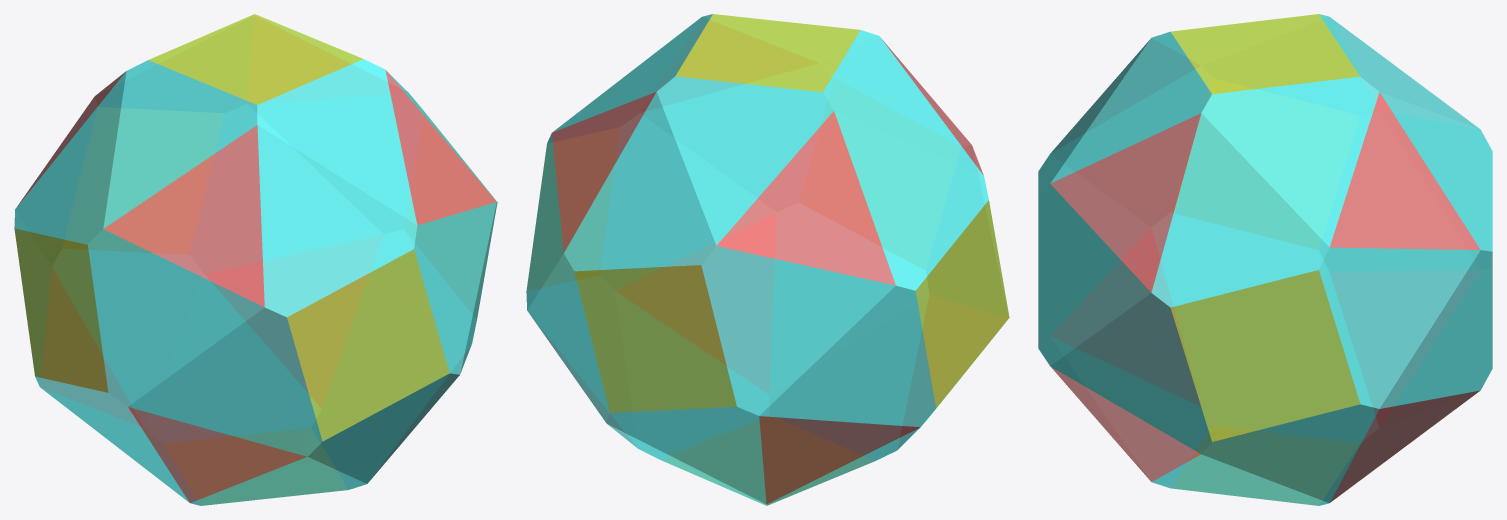
Rendered from BiscribedOrthotruncatedPropelloOctahedron.obj.
3 renders of one model, left to right at view 1: azimuth 30°, elevation 25°; view 2: azimuth 150°, elevation 25°; view 3: azimuth 270°, elevation 25°, orthographic.
Size of the model in its own units: 2 by 2 by 2.
